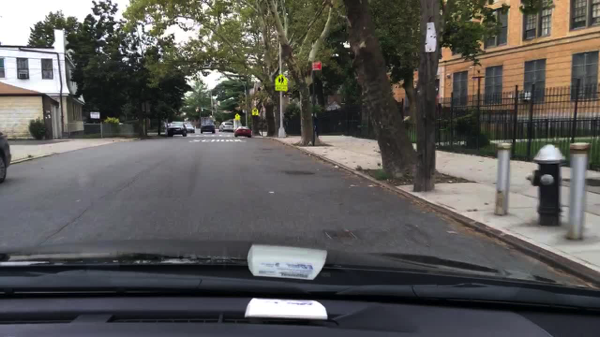car: (0, 130, 13, 185), (165, 121, 188, 137), (200, 118, 216, 136), (234, 126, 252, 139), (218, 121, 234, 133), (184, 122, 196, 133)
traffic sign: (274, 74, 289, 91), (311, 62, 323, 71), (90, 111, 101, 119), (251, 108, 258, 116), (234, 113, 241, 121)
